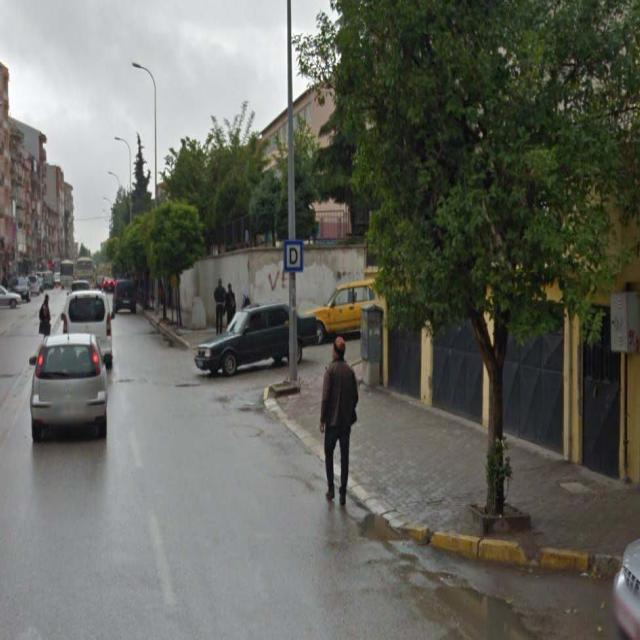durak: (284, 241, 303, 270)
